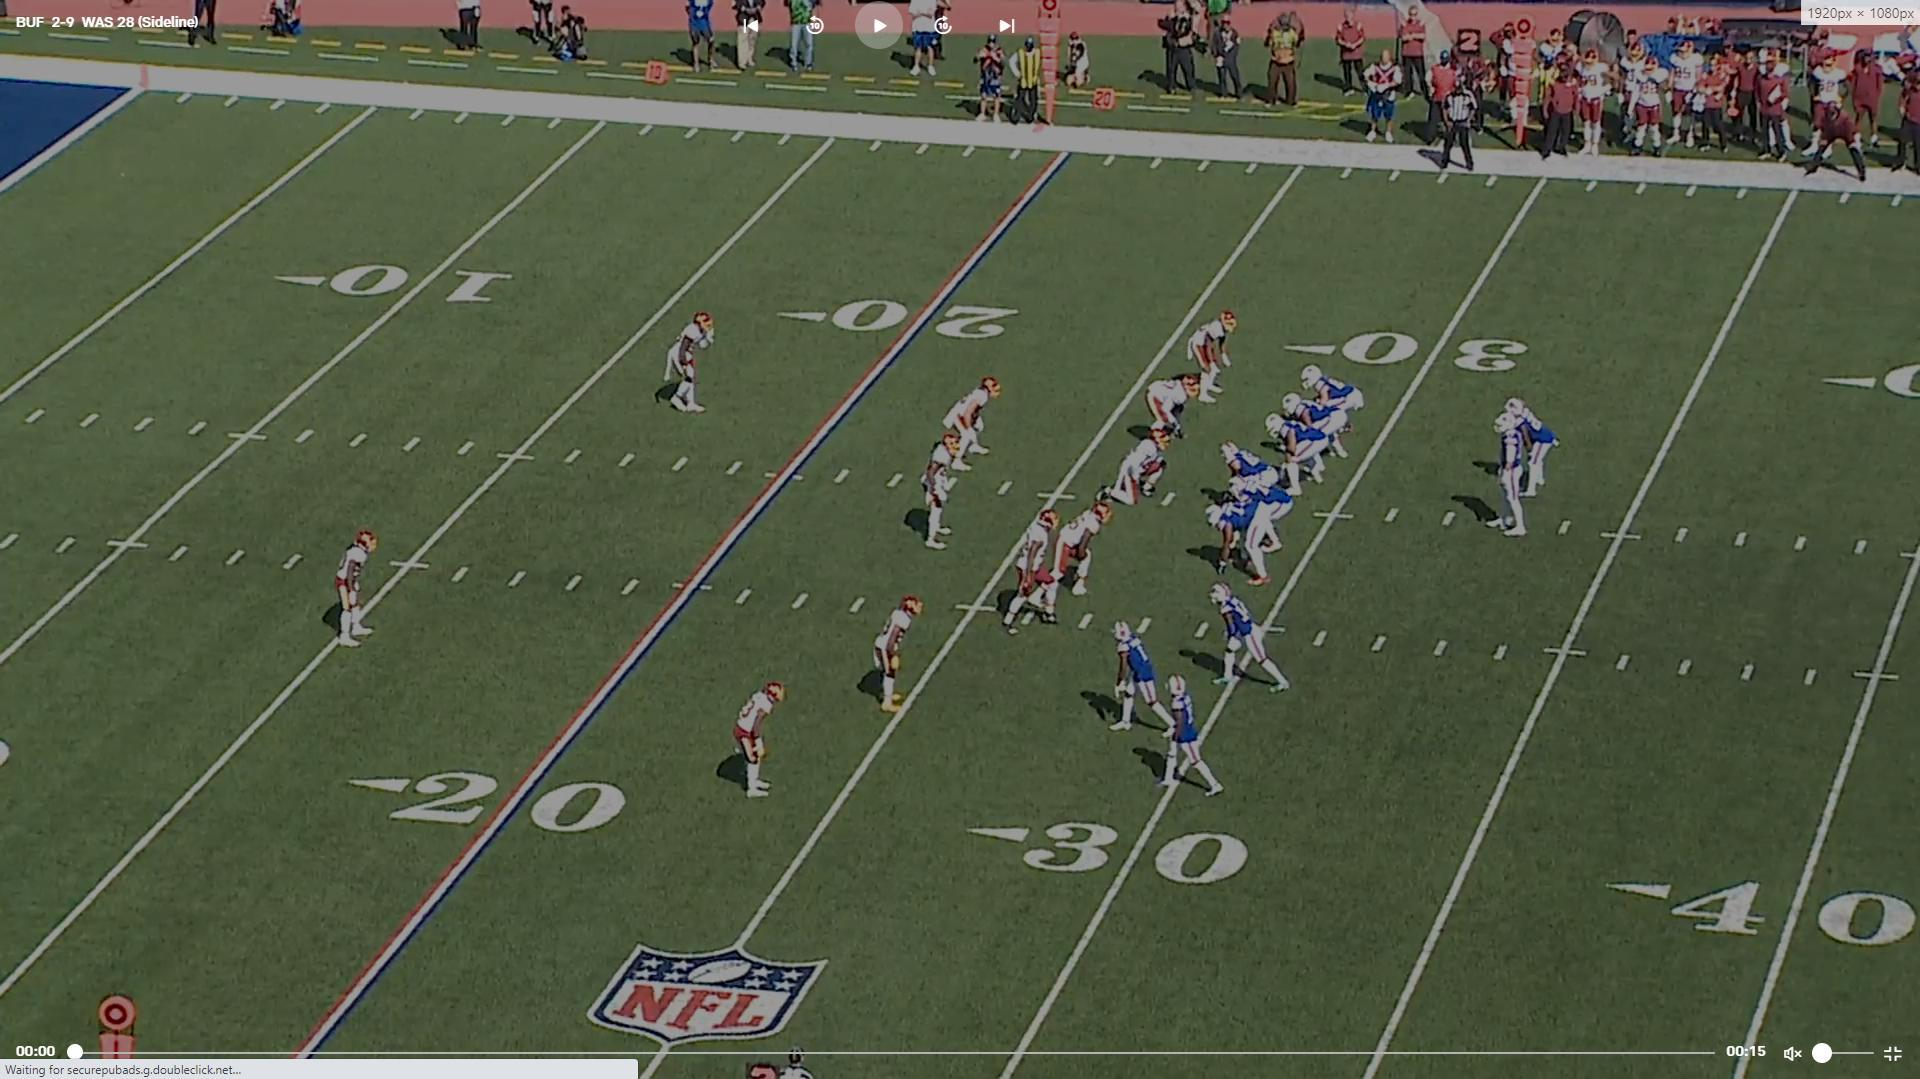player: (1212, 583, 1297, 701), (1003, 502, 1069, 638), (1150, 674, 1218, 804), (1105, 618, 1172, 743), (859, 591, 924, 714), (322, 526, 381, 654), (727, 677, 786, 801), (666, 307, 725, 420), (1201, 495, 1271, 588), (1098, 435, 1176, 516), (1509, 398, 1563, 509), (947, 375, 1003, 479), (1490, 408, 1533, 542), (918, 427, 964, 552), (1054, 499, 1108, 605), (1234, 475, 1298, 561), (1134, 377, 1206, 449), (1267, 412, 1330, 494), (1186, 308, 1238, 404), (1291, 392, 1355, 463), (1304, 367, 1370, 433), (1224, 440, 1287, 495)
ref: (1438, 80, 1487, 177)
